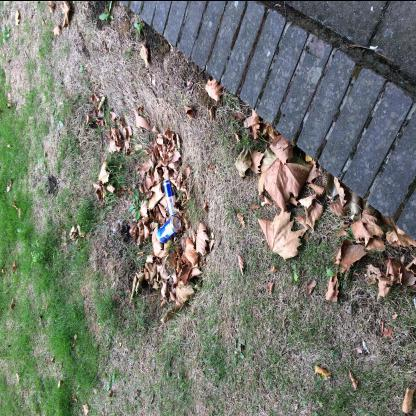metal: (158, 216, 182, 244), (164, 179, 180, 217)
